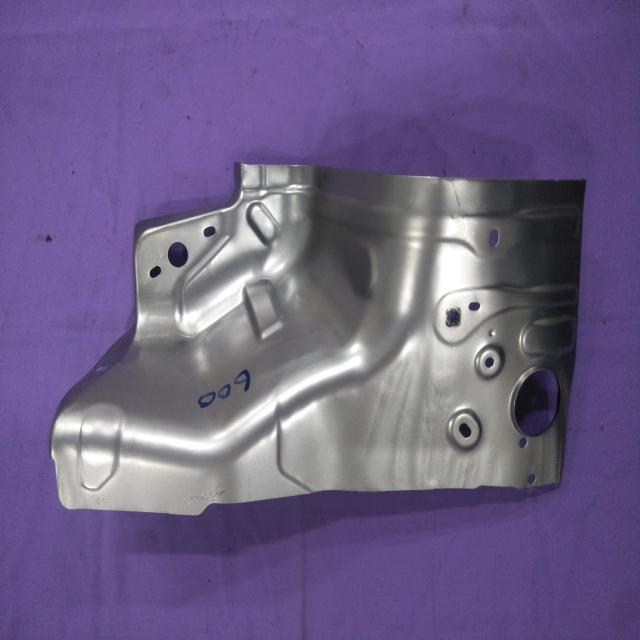Healthy: (49, 158, 587, 517)
